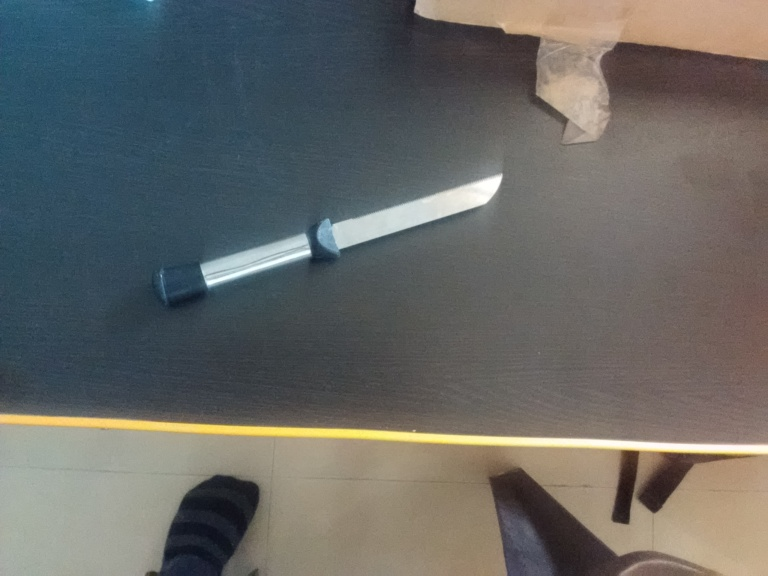knife: (150, 171, 506, 306)
